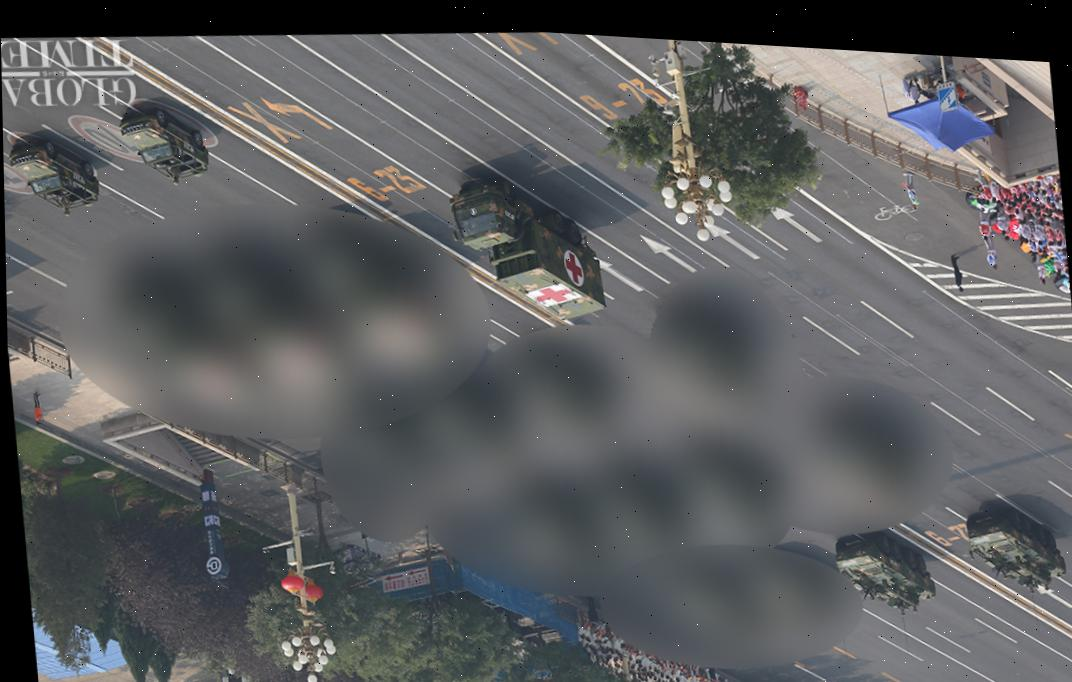armored_car: (962, 500, 1069, 600), (831, 525, 938, 614), (3, 131, 101, 220), (116, 98, 211, 188)
truck: (444, 166, 611, 332)
